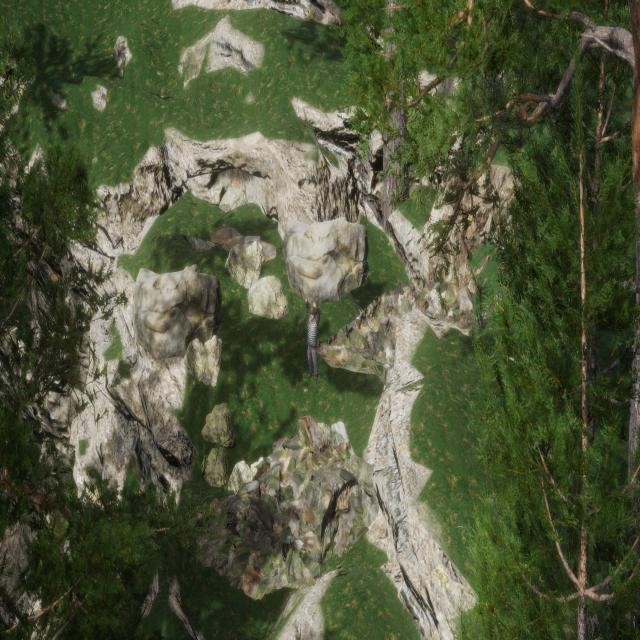Human: (303, 288, 323, 384)
